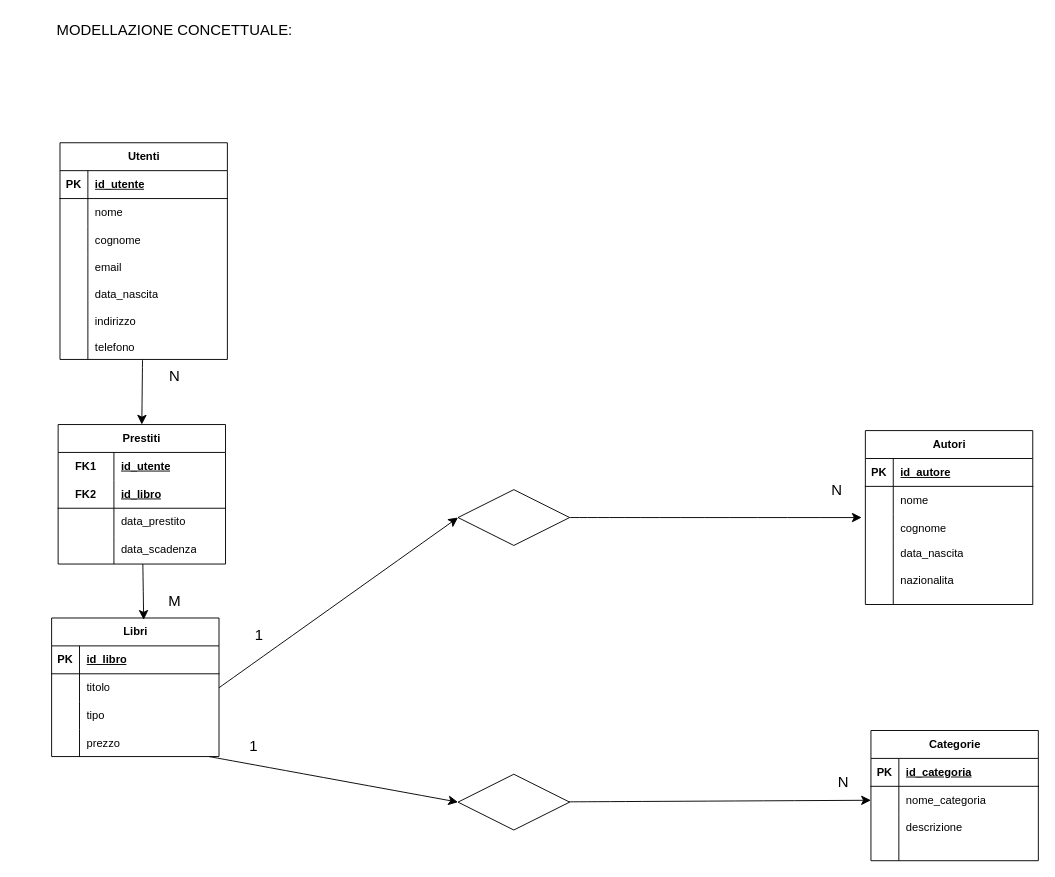
Some shapes in this 1055 by 877 pixel diagram are drawn without their labels. Each missing label, with the centre of its shape:
"appartiene" belongs at point (513, 801).
"associato" belongs at point (513, 517).
